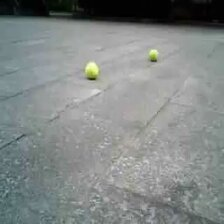tennis: (86, 63, 98, 78), (149, 49, 159, 61)
